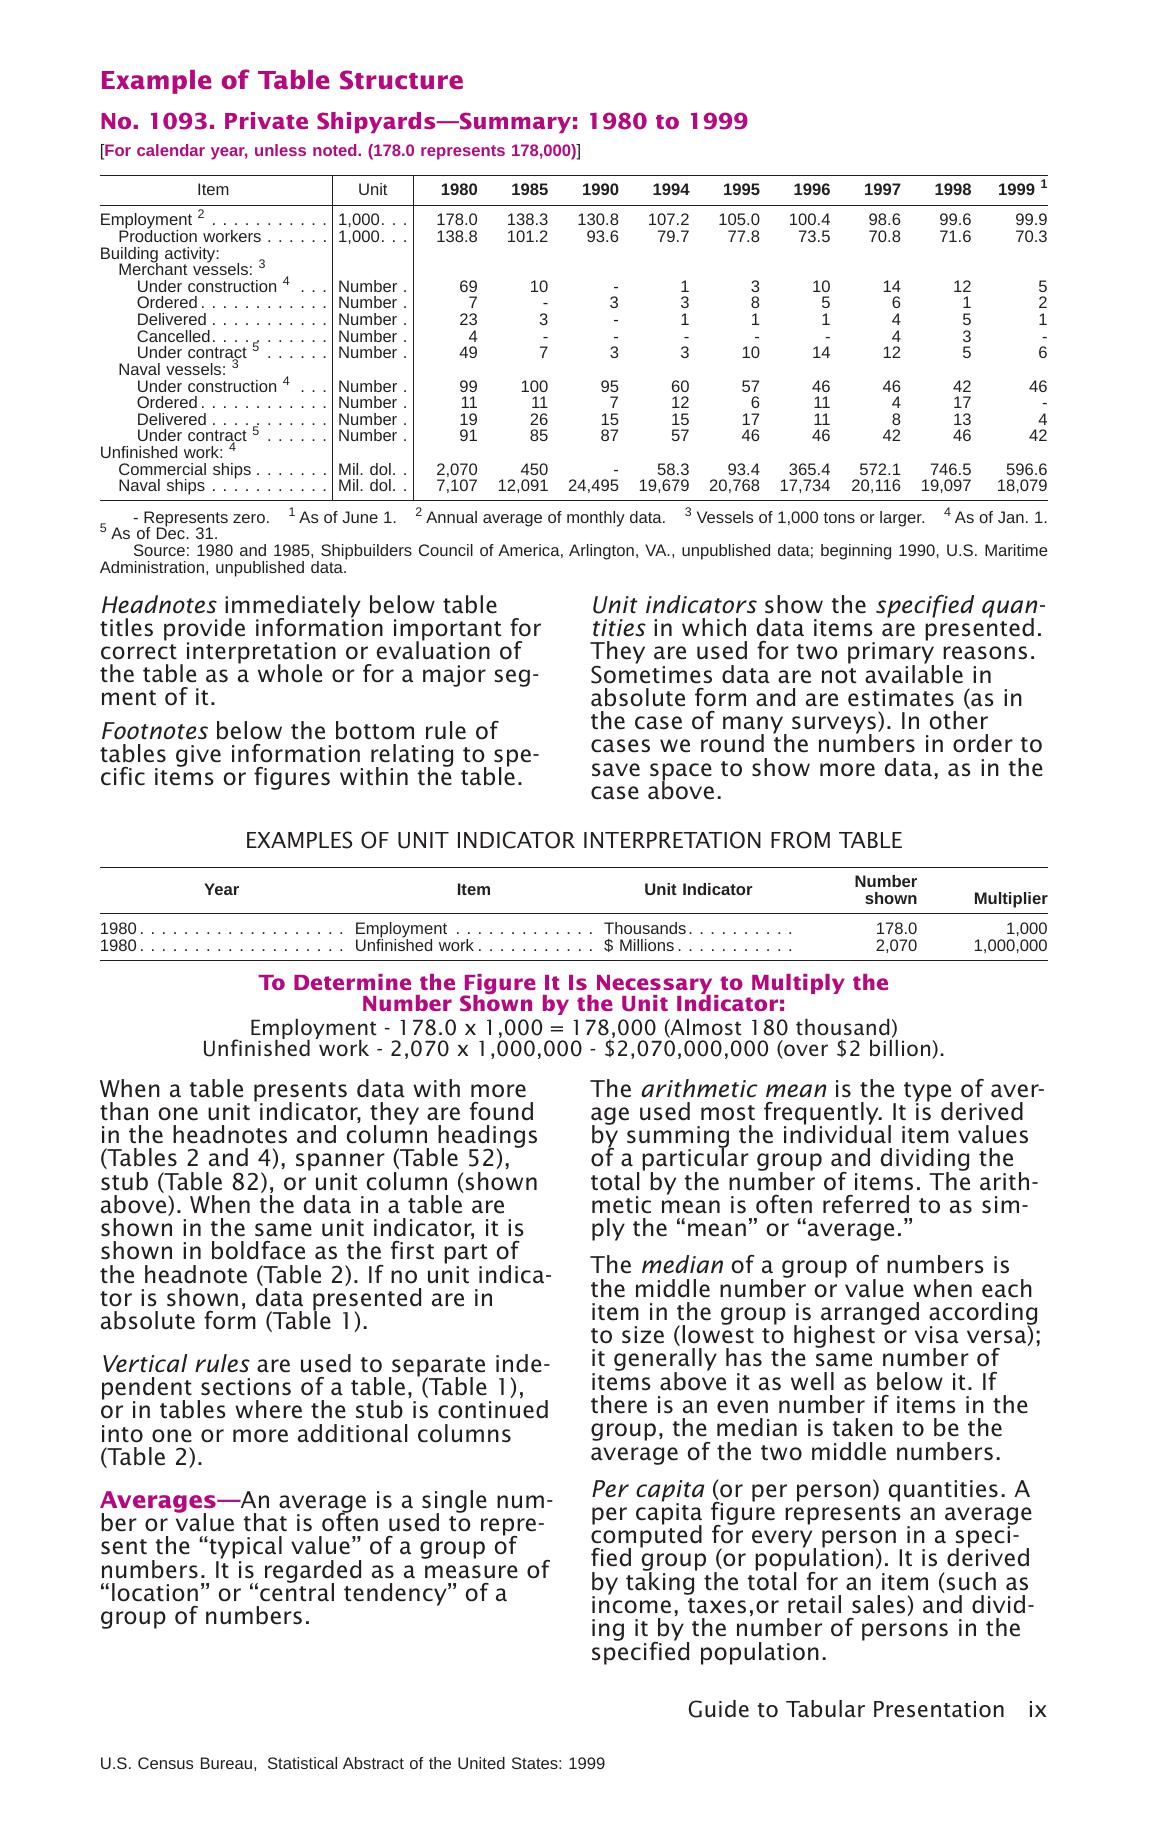table: (89, 167, 1055, 502), (94, 863, 1055, 963)
